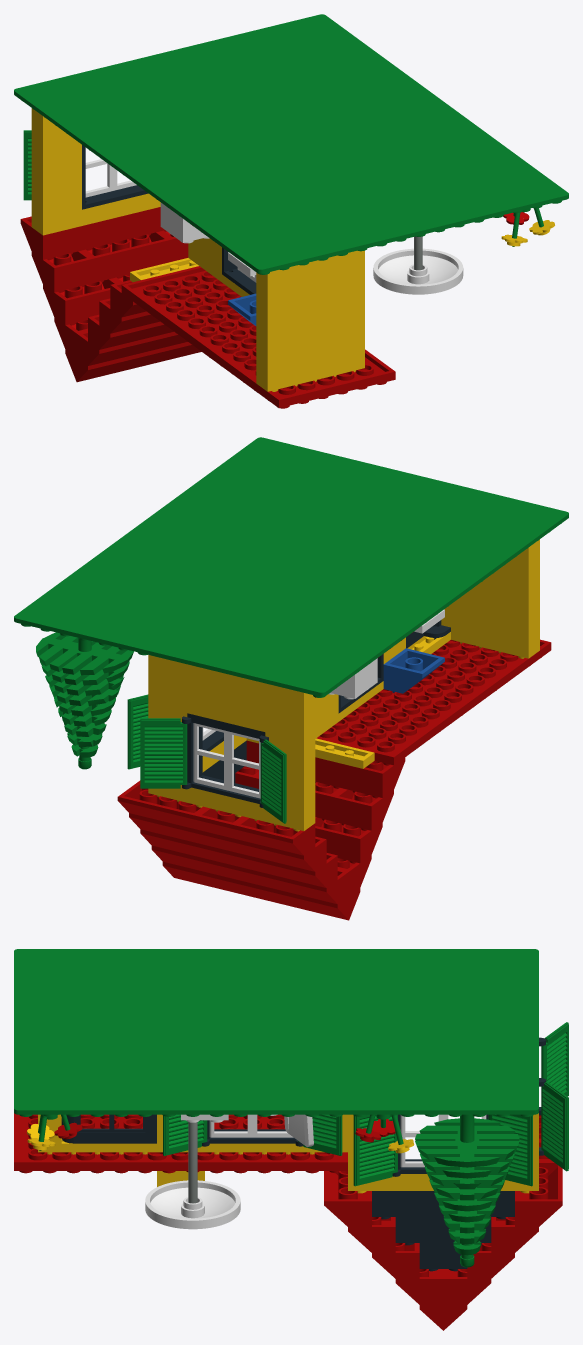
3 renders of one model, top to bottom at view 1: azimuth 30°, elevation 25°; view 2: azimuth 150°, elevation 25°; view 3: azimuth 270°, elevation 25°, orthographic. The views are drawn at different scales.
Size of the model in its own units: 324 by 260 by 465.
